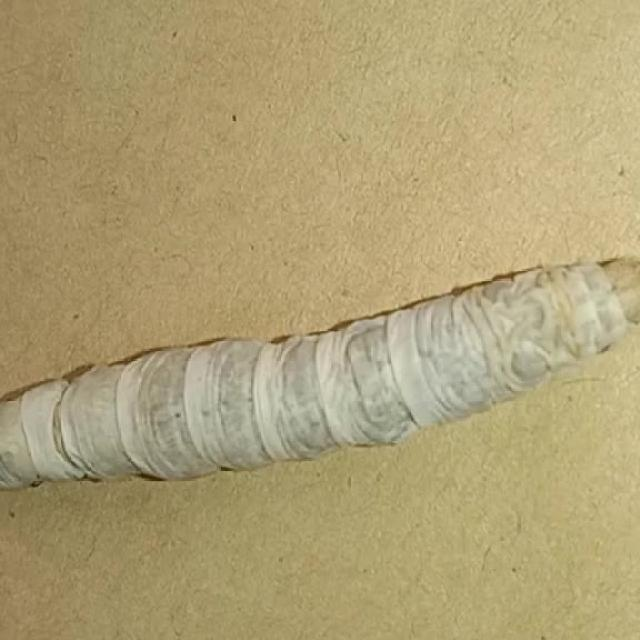Grasserie: (2, 211, 640, 512)
